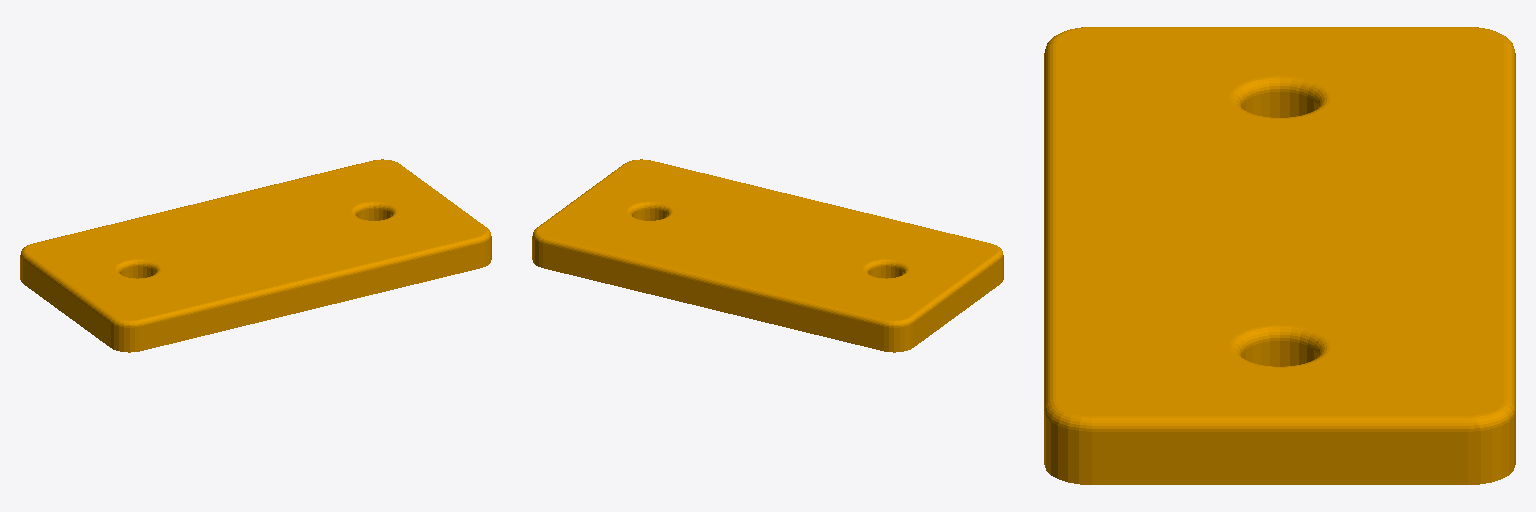
The robot description file, URDF, robot "plate":
<?xml version="1.0"?>
<!-- written by sand3d: plate at rest, metres and radians -->
<robot name="plate">
  <link name="plate">
    <visual name="plate">
      <origin xyz="0 0 0" rpy="0 0 0" />
      <geometry>
        <mesh filename="bracket_meshes/plate.obj" />
      </geometry>
    </visual>
  </link>
</robot>

--- Facts derived from the render (not from the file) ---
3 views of the same robot in one strip: view 1: azimuth 30°, elevation 25°; view 2: azimuth 150°, elevation 25°; view 3: azimuth 270°, elevation 25° (orthographic).
Model plate with 1 links and 0 joints (none), rooted at plate, posed all joints at 0.
Visible links, largest first — view 1: plate; view 2: plate; view 3: plate.
Boxes of the visible links, bbox=[...] form: plate: bbox=[20, 159, 491, 352]; plate: bbox=[532, 159, 1003, 352]; plate: bbox=[1044, 27, 1515, 484].
Size in the robot's own frame: 0.08 by 0.04 by 0.006 metres.
1 mesh visuals loaded from 1 distinct referenced files (1 OBJ).
